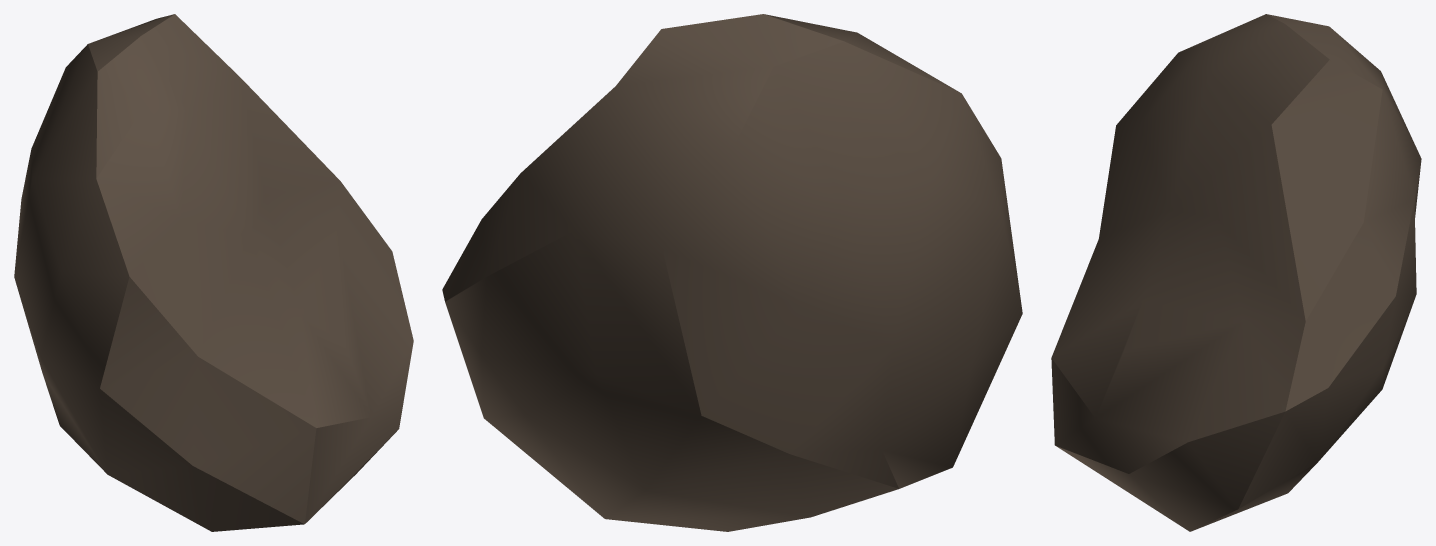
The model's file is rock_003.fbx.
The picture shows the model from 3 angles, left to right: view 1: azimuth 30°, elevation 25°; view 2: azimuth 150°, elevation 25°; view 3: azimuth 270°, elevation 25°; orthographic projection. The views are drawn at different scales.
Visible parts, largest first — view 1: rock.003; view 2: rock.003; view 3: rock.003.
Boxes of the visible parts, left/top/right/bottom form: rock.003: left=14, top=14, right=413, bottom=531; rock.003: left=442, top=14, right=1022, bottom=531; rock.003: left=1051, top=14, right=1421, bottom=531.
Bounding box in the file's own units: 86.54 × 100 × 74.44.
